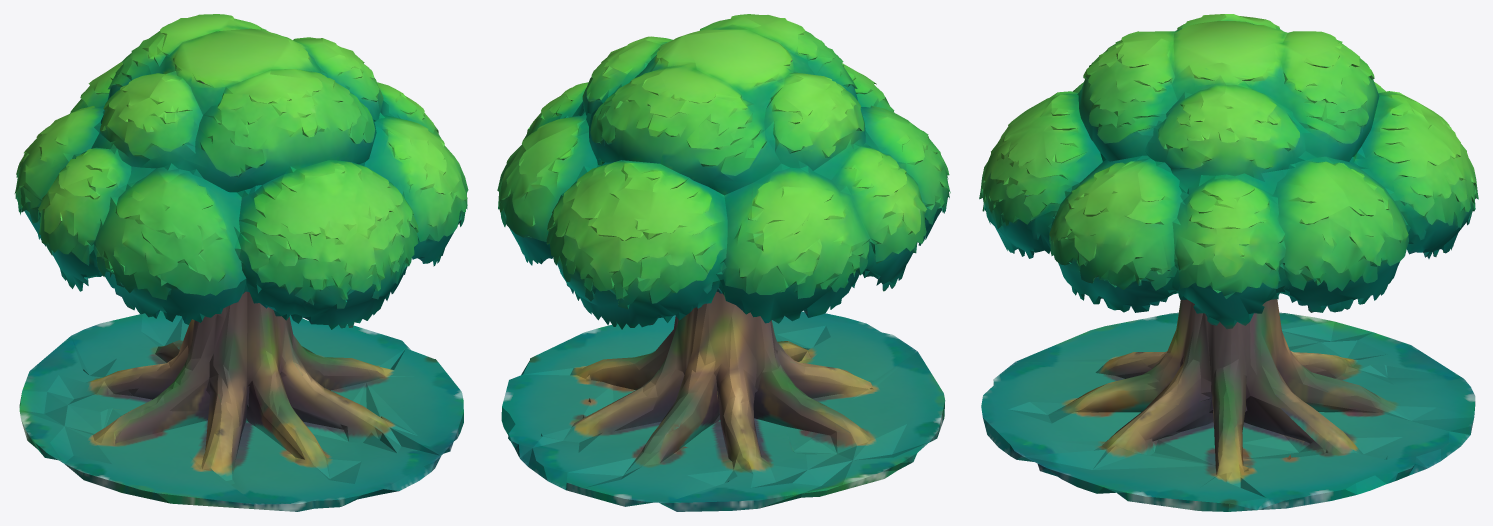
The model's file is bushtree.glb.
3 views of the same model, side by side, from view 1: azimuth 30°, elevation 25°; view 2: azimuth 150°, elevation 25°; view 3: azimuth 270°, elevation 25° (orthographic). The views are drawn at different scales.
Parts seen in each view (by area): view 1: Rodin_tree2; view 2: Rodin_tree2; view 3: Rodin_tree2.
Part boxes in pixels (bbox=[...]): Rodin_tree2: bbox=[14, 14, 468, 511]; Rodin_tree2: bbox=[497, 14, 950, 511]; Rodin_tree2: bbox=[979, 14, 1478, 511].
Bounding box in the file's own units: 1.74 × 1.57 × 1.89.
Materials: 1 (1 with a texture image).
